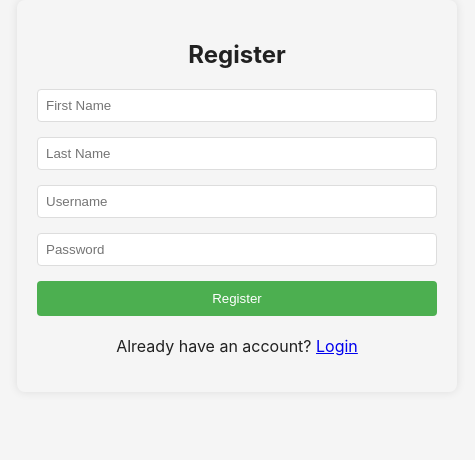
Test: Register Component › displays error message on service failure
The image size is (475, 460).
Type "existing" into the field with placeholder "Username". click: (237, 201)
box: [37,185,437,218]
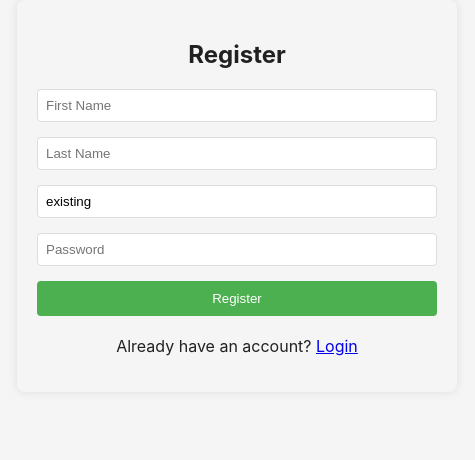
Type "pass" into the password field with placeholder "Password". click: (237, 249)
box: [37,233,437,266]
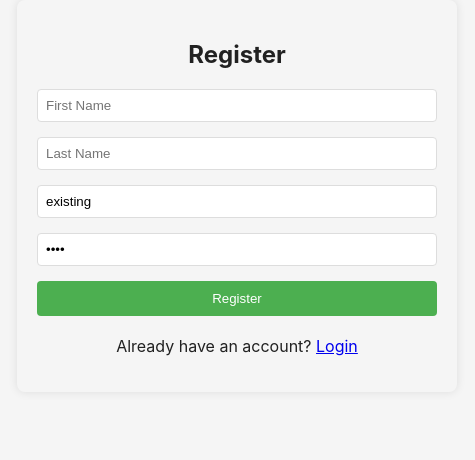
Click the button "Register". click: (237, 298)
box: [37,281,437,316]
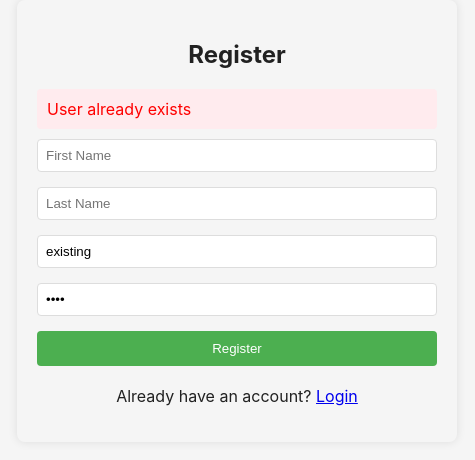
Now the text "User already exists" is shown, box [37,89,437,129]
